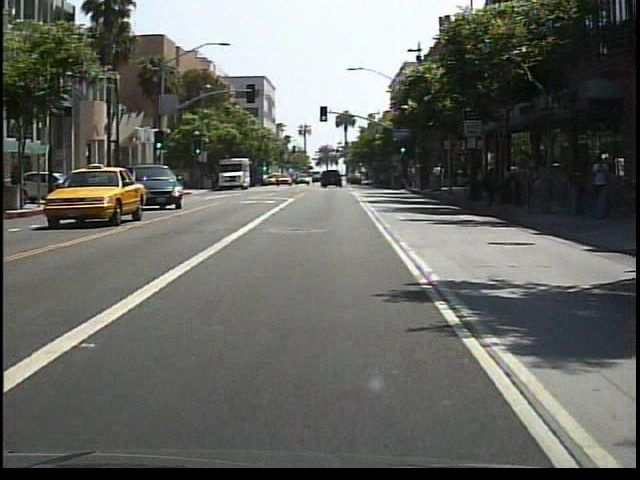person: (587, 151, 613, 192)
